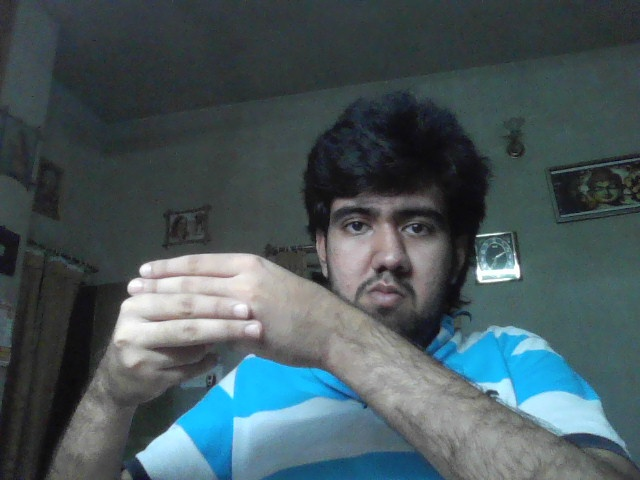Name: (107, 253, 329, 400)
